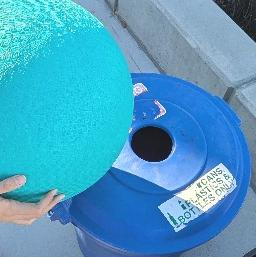algae: (0, 0, 127, 201)
